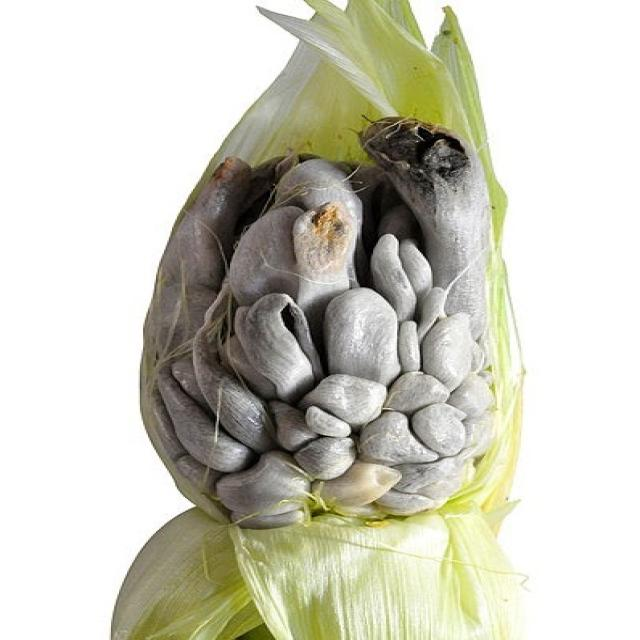Leaf_Scald: (102, 97, 572, 557)
